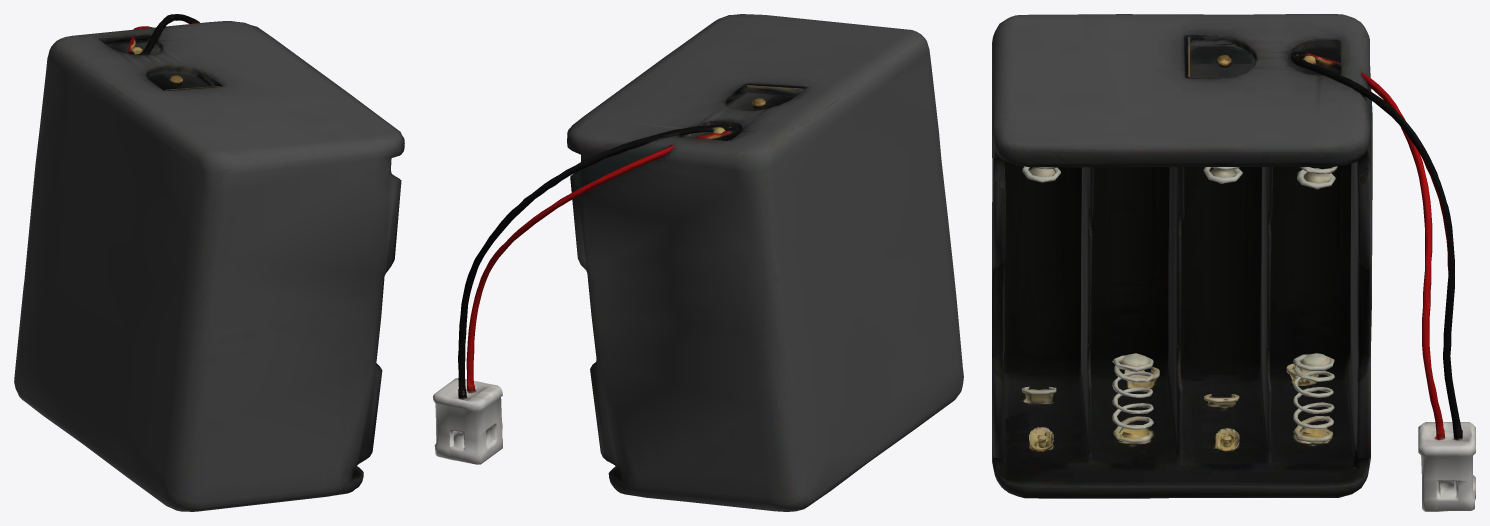
Rendered from battery_holder.glb.
The picture shows the model from 3 angles, left to right: view 1: azimuth 30°, elevation 25°; view 2: azimuth 150°, elevation 25°; view 3: azimuth 270°, elevation 25°; orthographic projection. The views are drawn at different scales.
Visible parts, largest first — view 1: tripo_node_67e24c0f-dfe3-44bb-815d-41c4a9d680f7; view 2: tripo_node_67e24c0f-dfe3-44bb-815d-41c4a9d680f7; view 3: tripo_node_67e24c0f-dfe3-44bb-815d-41c4a9d680f7.
Part boxes in pixels (x1,y1,x2,y2): tripo_node_67e24c0f-dfe3-44bb-815d-41c4a9d680f7: (14,14,404,511); tripo_node_67e24c0f-dfe3-44bb-815d-41c4a9d680f7: (433,14,963,511); tripo_node_67e24c0f-dfe3-44bb-815d-41c4a9d680f7: (992,14,1475,511).
Size of the model in its own units: 0.8144 by 0.9238 by 0.998.
1 material, 1 textured.
